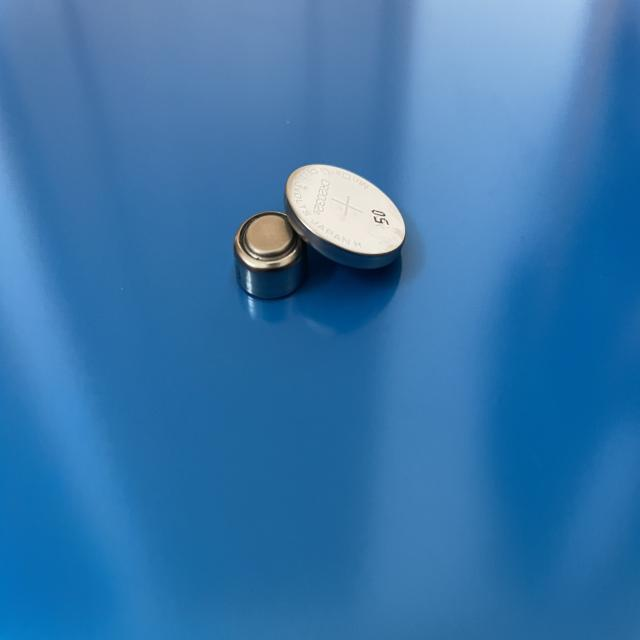COIN: (284, 158, 404, 270), (230, 206, 314, 301)
